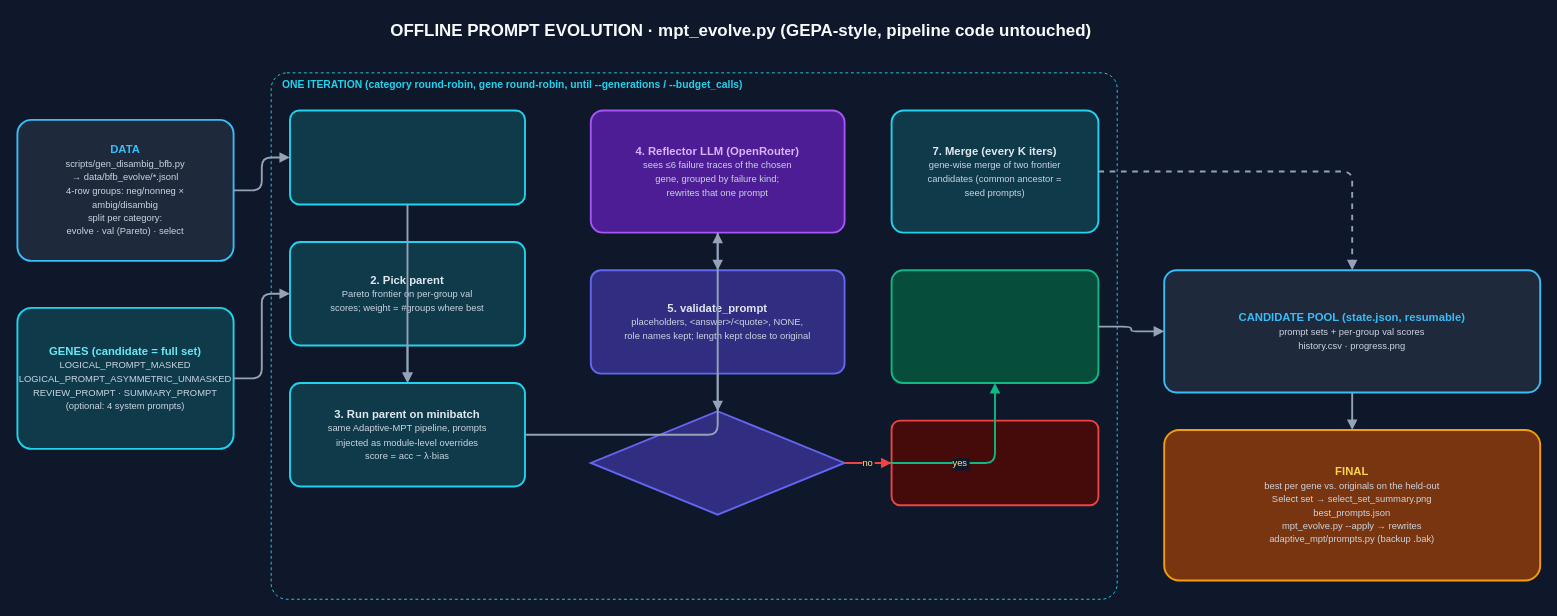
Some shapes in this 1557 by 616 pixel diagram are drawn without their labels. The centre of each missing label's shape, as x and y in pixels:
"1. Minibatch random 4-row groups of one category" goes at pixel 407 157.
"6. Accept score child on val set → add to candidate pool" goes at pixel 994 326.
"child > parent + margin on the minibatch?" goes at pixel 717 462.
"Reject discard child" goes at pixel 994 462.
